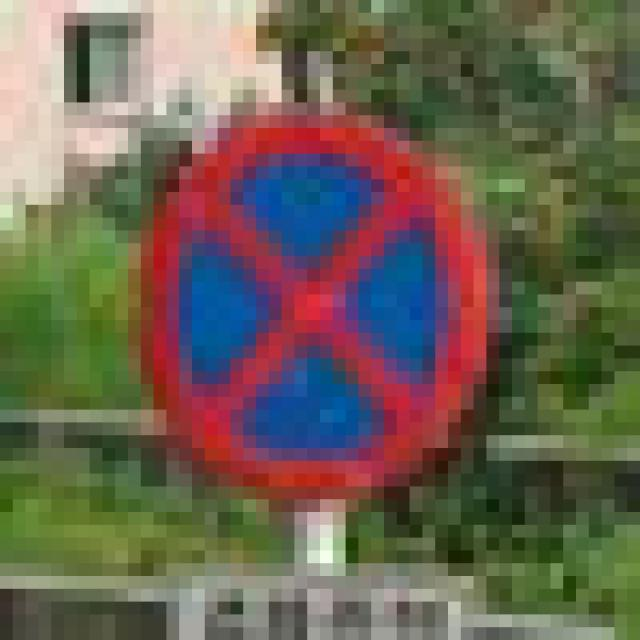no stopping or standing: (132, 102, 508, 506)
